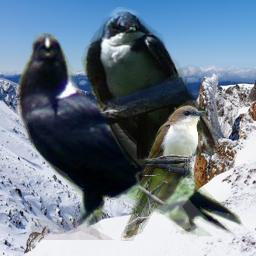Crow: (15, 33, 245, 240)
Cuckoo: (120, 103, 205, 241)
Swallow: (81, 7, 221, 175)
